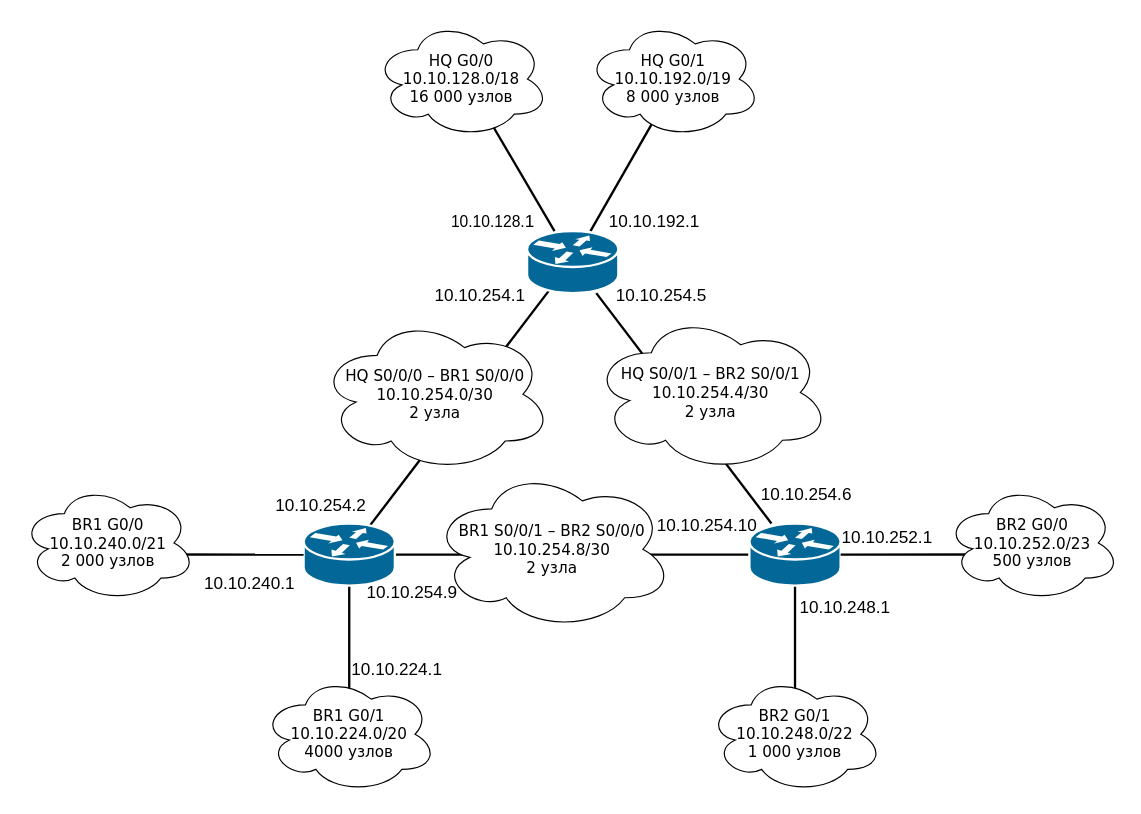
This 1141x814 diagram has some shape labels left out. The shapes that lost their labels are listed below. From the top down, each one's box as (x1, y1, x2, y2) in pixels, then its label:
(525, 229, 619, 294): HQ
(302, 522, 395, 586): BR1
(748, 522, 841, 586): BR2
